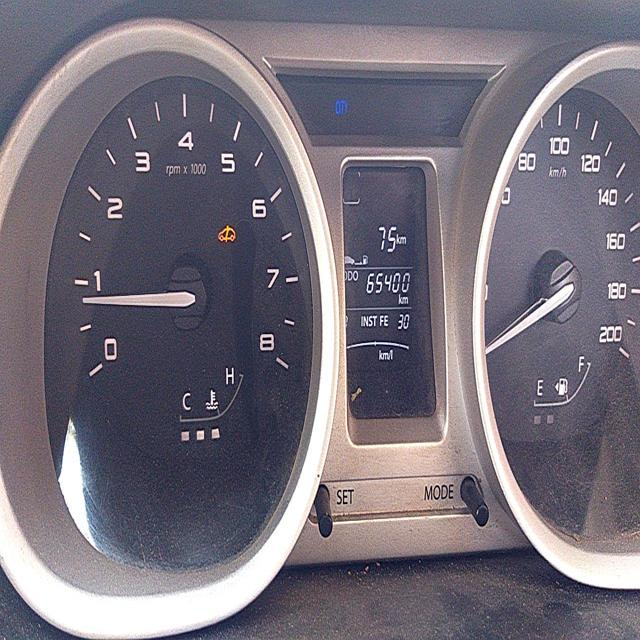odometer: (365, 269, 410, 295)
